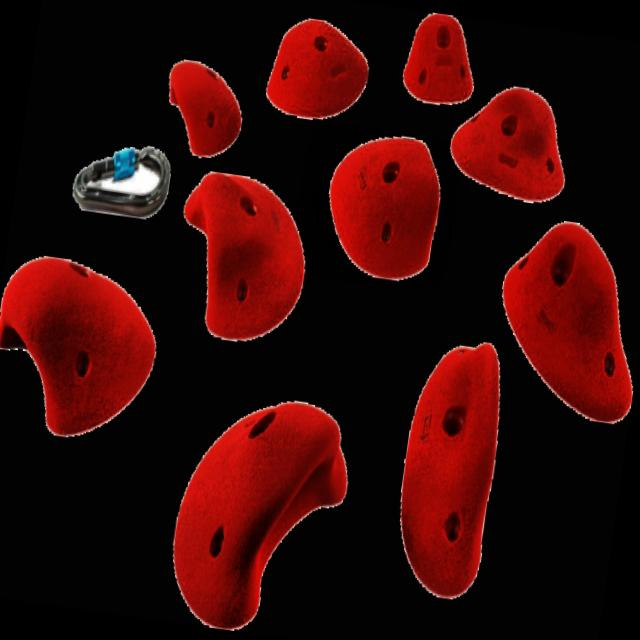Hold: (163, 388, 358, 640), (0, 245, 168, 453), (389, 330, 514, 598), (163, 160, 321, 350), (314, 127, 448, 295), (446, 72, 577, 207), (261, 16, 376, 124), (158, 54, 255, 160), (396, 10, 489, 120)
